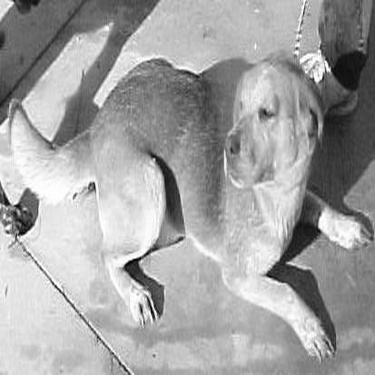dog: (2, 47, 374, 365)
